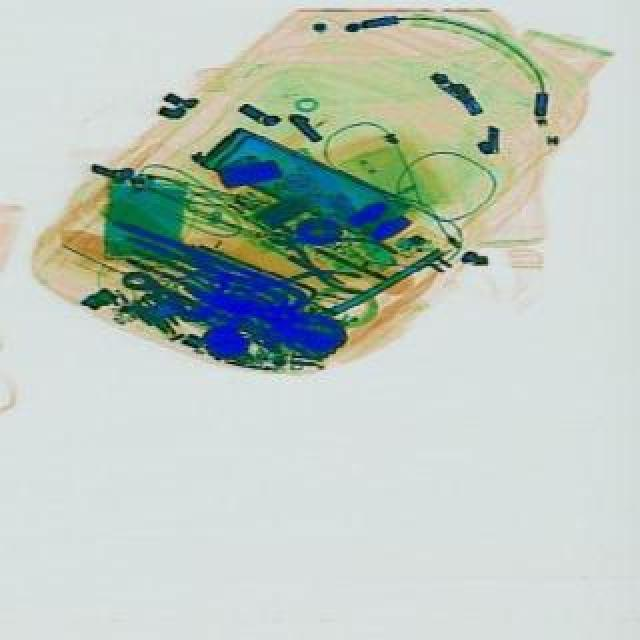scissors: (124, 270, 216, 324)
wrench: (256, 208, 400, 304)
